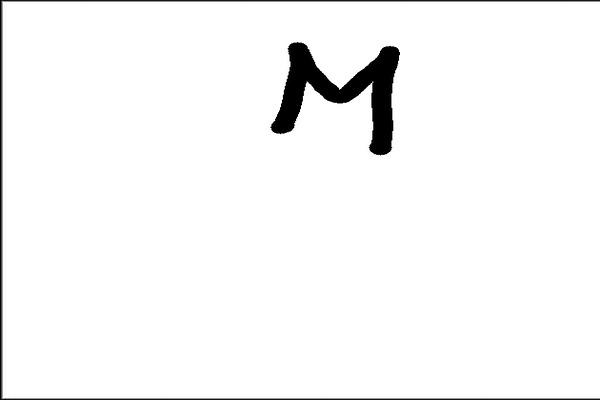M: (266, 41, 406, 154)
